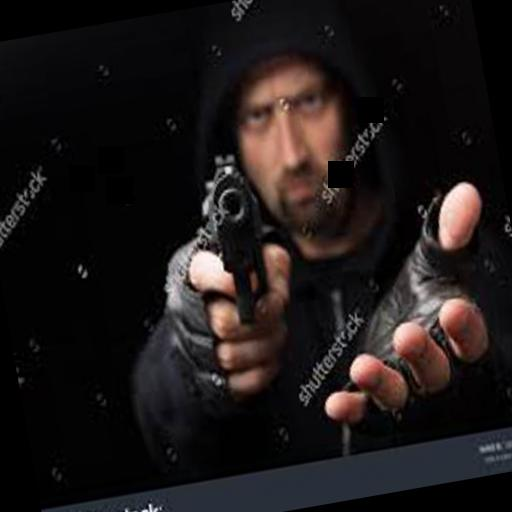Handgun: (188, 125, 292, 330)
